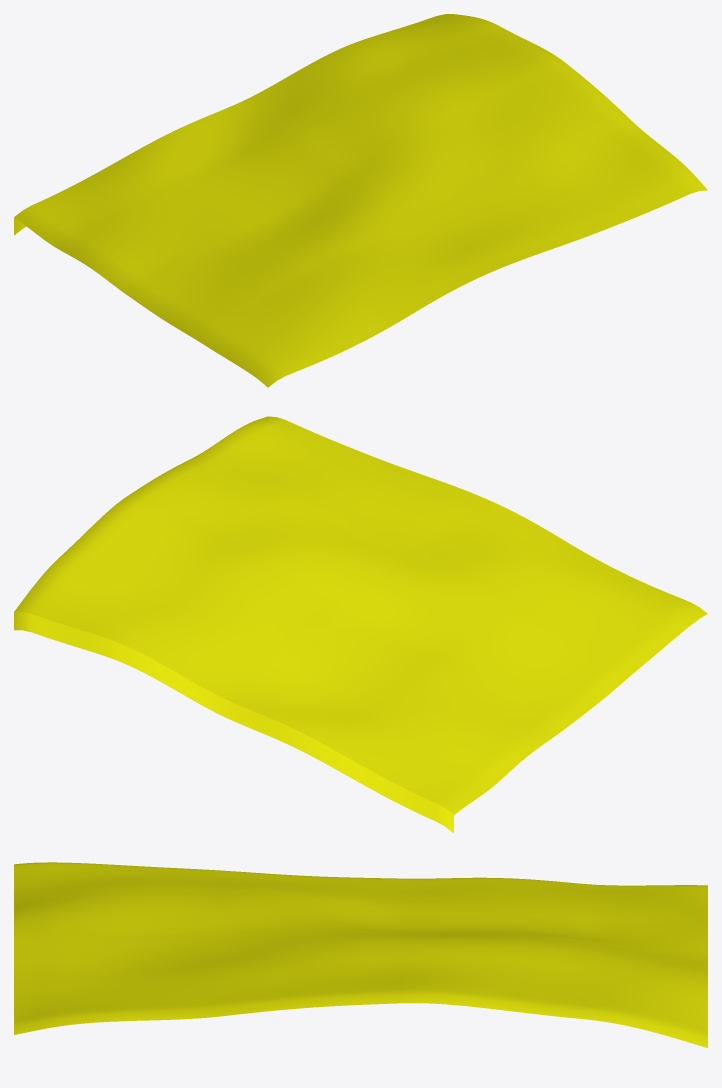
File: terrain_2_3.glb
3 renders of one model, top to bottom at view 1: azimuth 30°, elevation 25°; view 2: azimuth 150°, elevation 25°; view 3: azimuth 270°, elevation 25°, orthographic. The views are drawn at different scales.
Visible parts, largest first — view 1: terrain_2_3.0; view 2: terrain_2_3.0, terrain_2_3.1; view 3: terrain_2_3.0.
Boxes of the visible parts, x1,y1,x2,y2 form: terrain_2_3.0: [14, 14, 707, 387]; terrain_2_3.0: [14, 416, 707, 814]; terrain_2_3.1: [14, 612, 453, 833]; terrain_2_3.0: [14, 862, 707, 1048].
Bounding box in the file's own units: 50 × 16.16 × 50.
